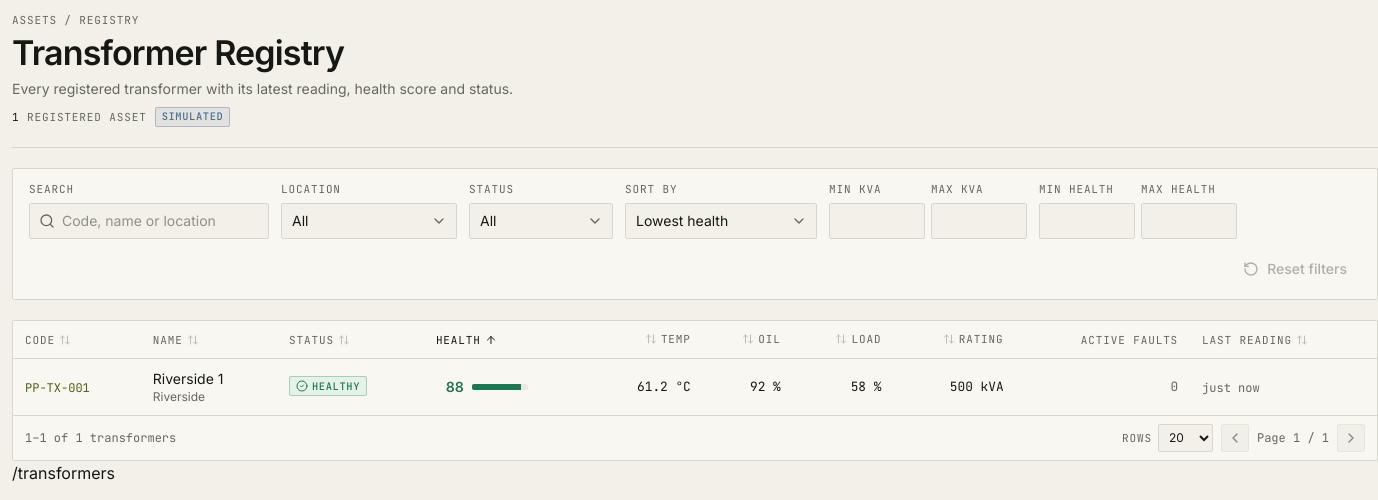
TransformersPage › debounces search into the q param and syncs it to the URL
Check: the link "PP-TX-001" is shown, box [25,380,90,396]
In the search field labelled "Search": [149, 220] box [29,202,269,238], type "river"
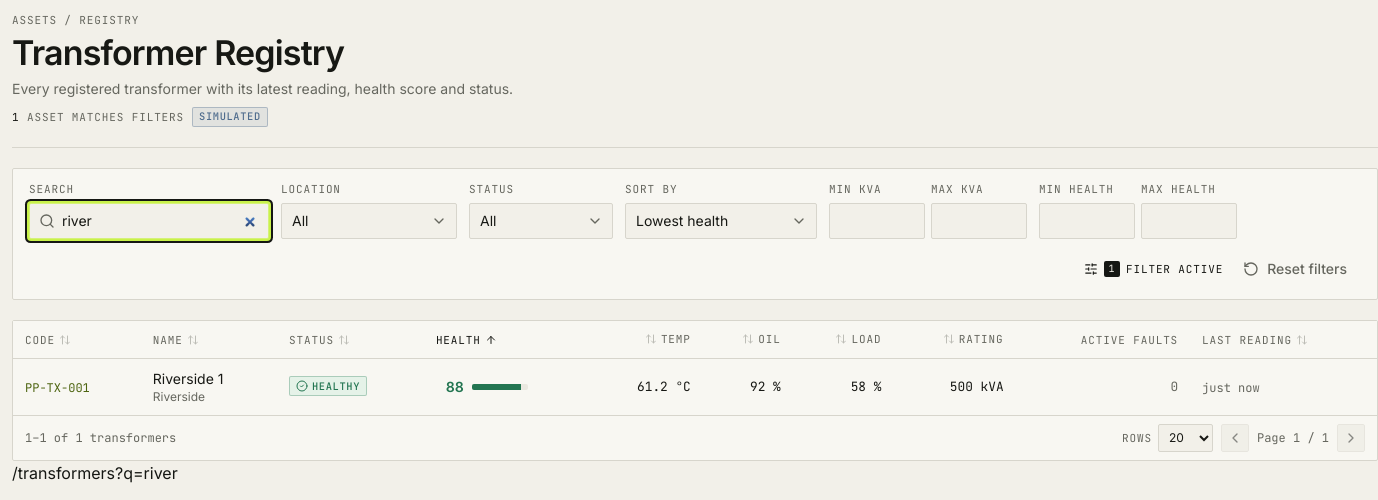
Check: the text with test id "location" shows "q=river", box [12,462,178,482]
